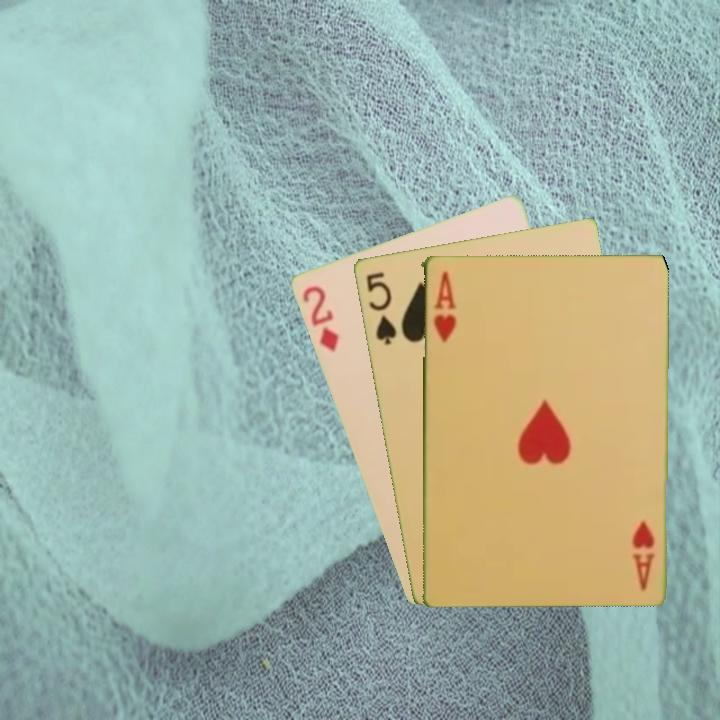2d: (298, 282, 341, 355)
5s: (362, 268, 399, 347)
Ah: (429, 267, 458, 345), (630, 516, 657, 593)
